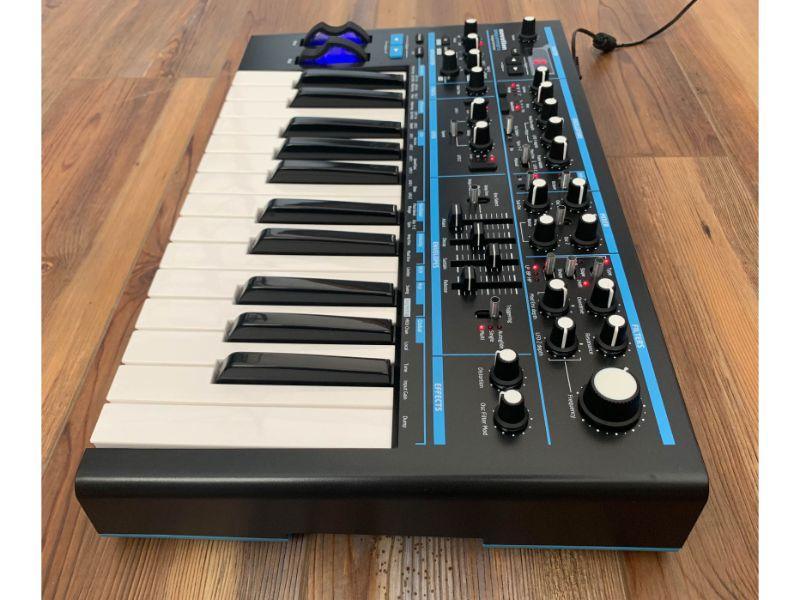synthesizer: (69, 20, 714, 548)
